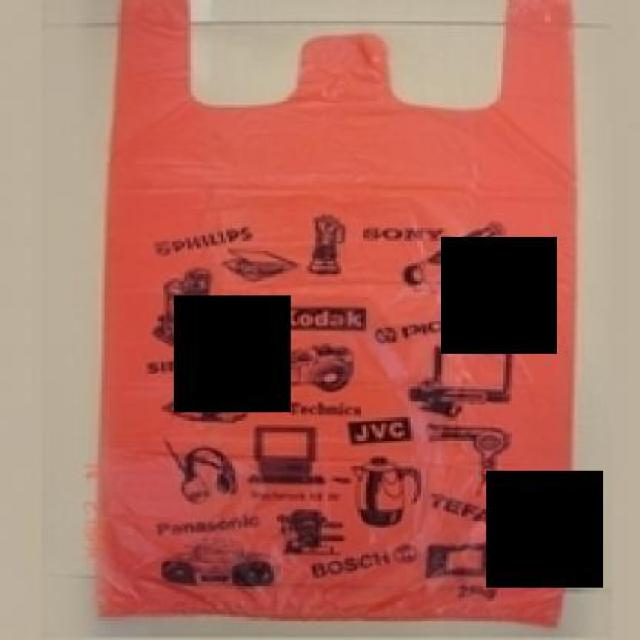plastic bag: (80, 0, 577, 629)
